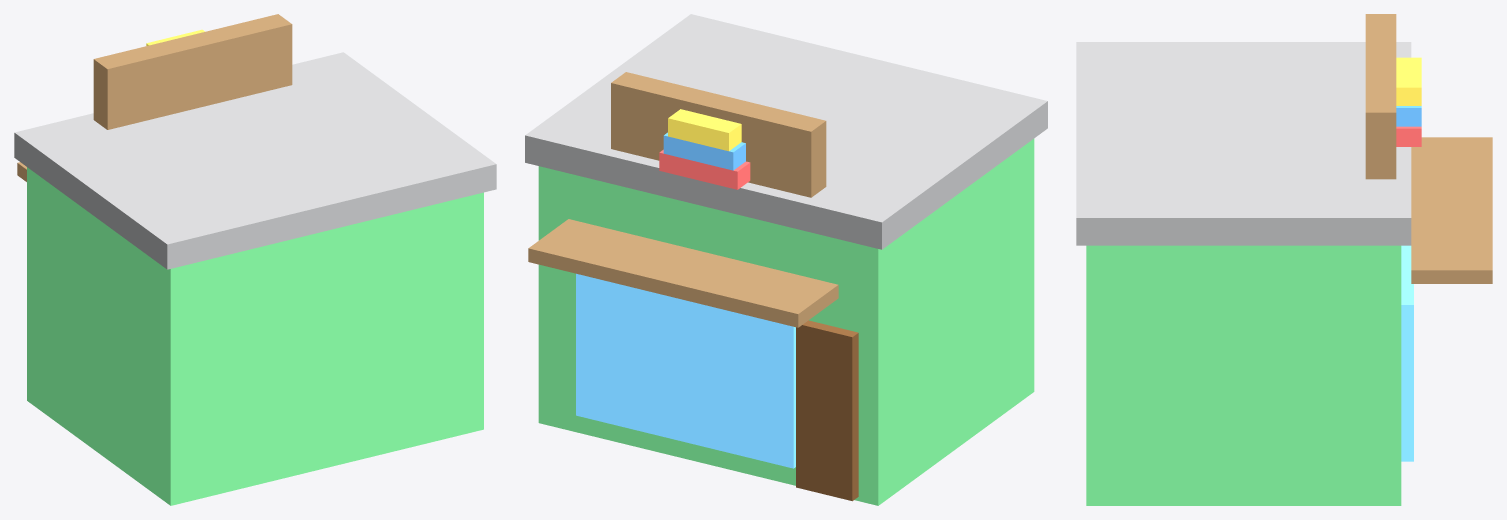
File: bookstore.glb
3 views of the same model, side by side, from view 1: azimuth 30°, elevation 25°; view 2: azimuth 150°, elevation 25°; view 3: azimuth 270°, elevation 25° (orthographic). The views are drawn at different scales.
Parts seen in each view (by area): view 1: bookstore; view 2: bookstore; view 3: bookstore.
Boxes of the visible parts, x1=… form: bookstore: x1=14, y1=14, x2=496, y2=505; bookstore: x1=525, y1=14, x2=1047, y2=505; bookstore: x1=1076, y1=14, x2=1492, y2=505.
Size of the model in its own units: 0.82 by 0.78 by 0.82.
